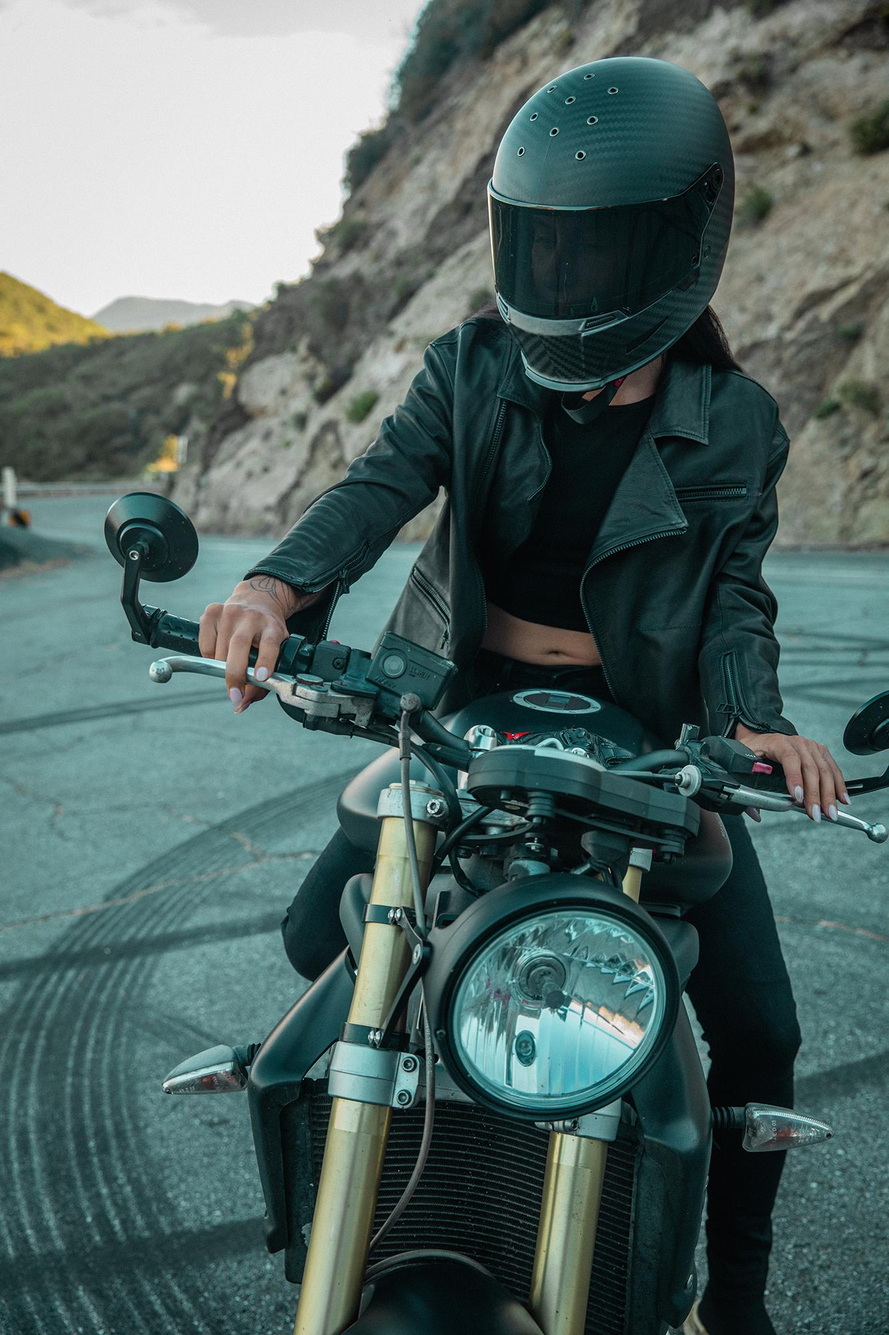helmet: (485, 54, 738, 426)
